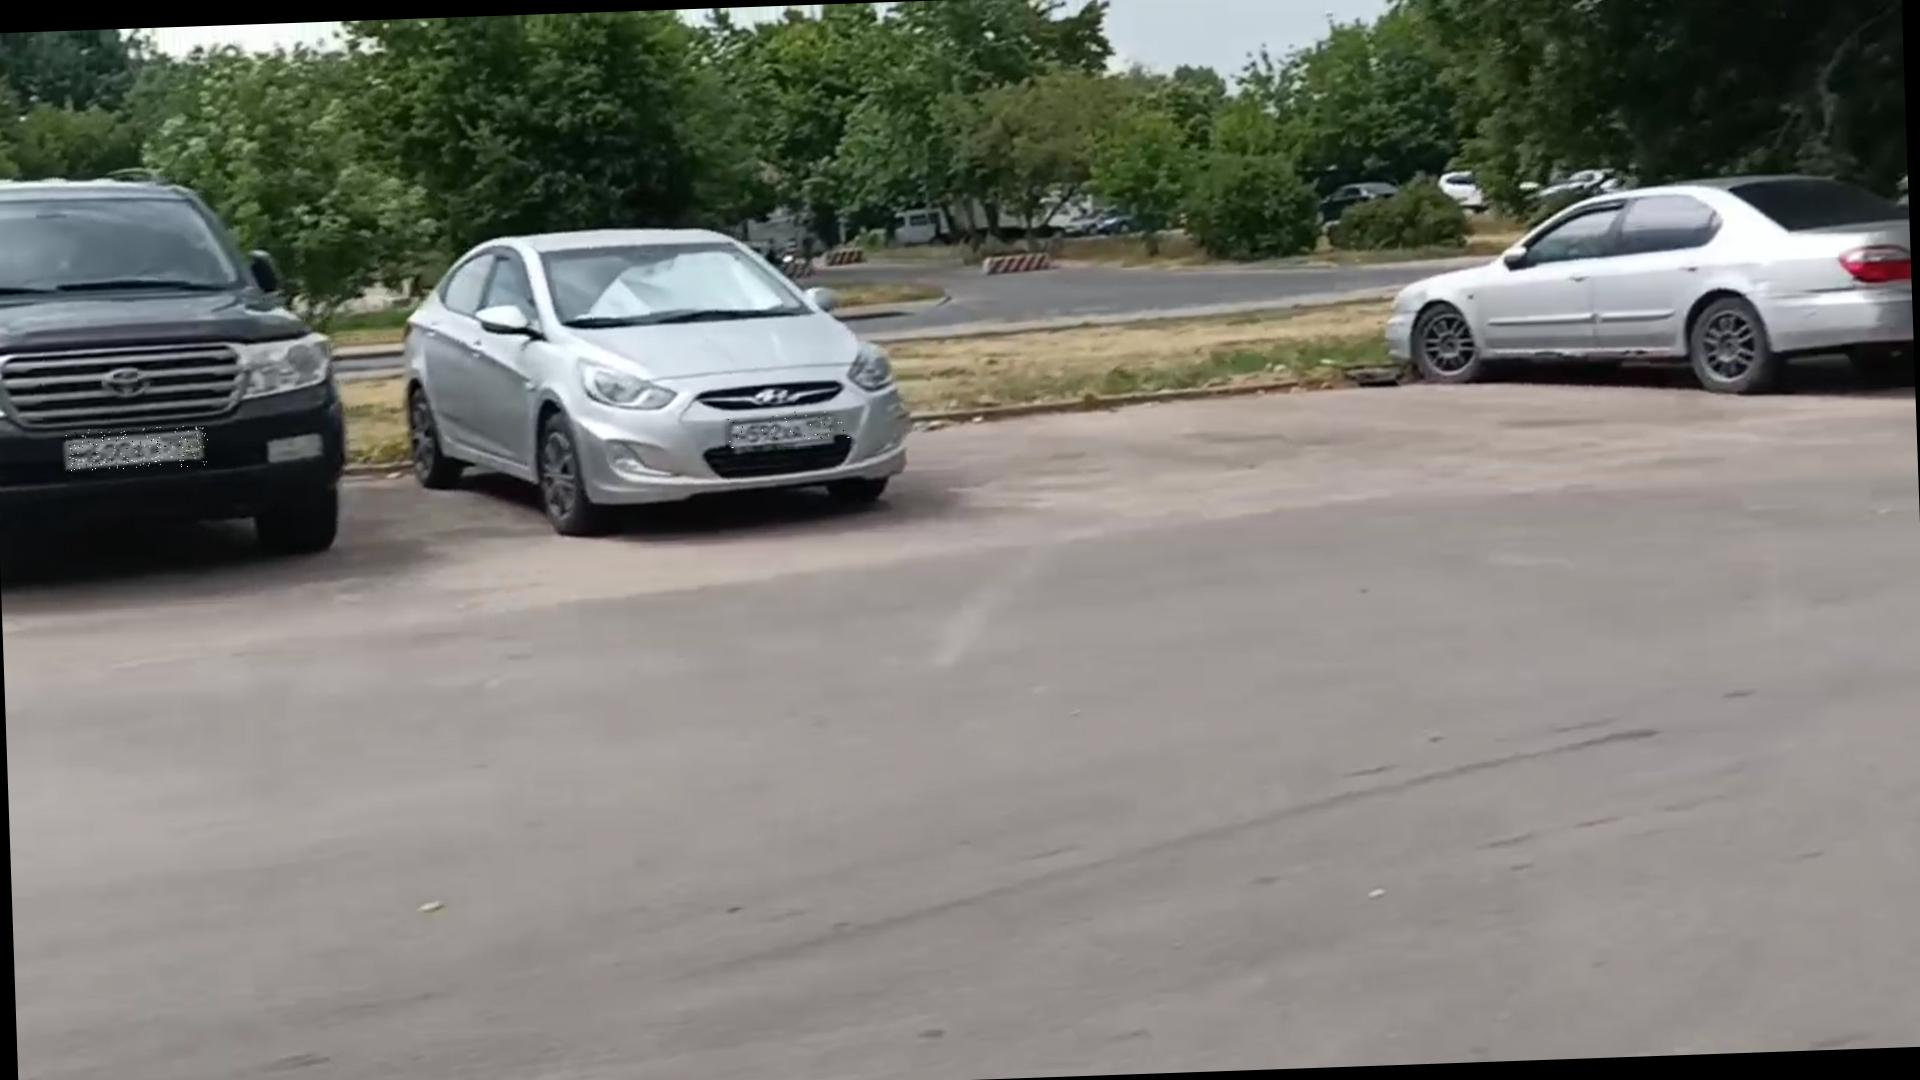plate: (67, 427, 210, 473), (727, 411, 855, 452)
